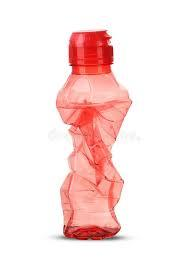plastic: (50, 31, 121, 234)
